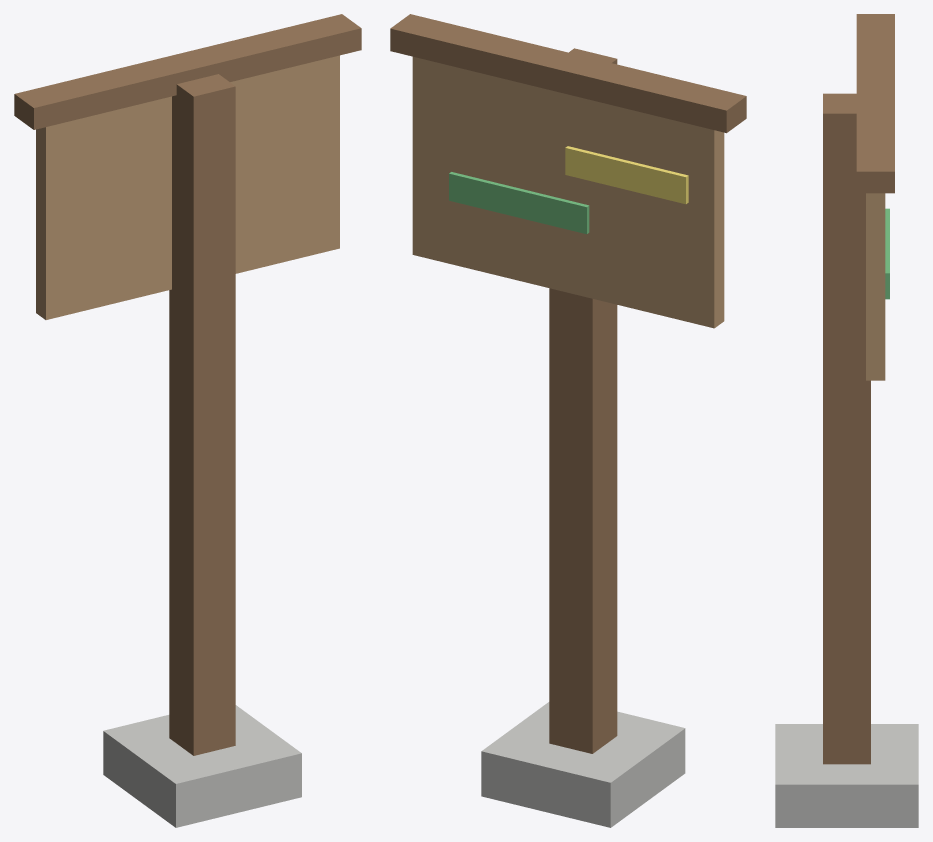
File: hiking_trail.glb
3 renders of one model, left to right at view 1: azimuth 30°, elevation 25°; view 2: azimuth 150°, elevation 25°; view 3: azimuth 270°, elevation 25°, orthographic. The views are drawn at different scales.
Parts seen in each view (by area): view 1: hiking_trail; view 2: hiking_trail; view 3: hiking_trail.
Part boxes in pixels (bbox=[...]): hiking_trail: bbox=[14, 14, 361, 827]; hiking_trail: bbox=[390, 14, 746, 827]; hiking_trail: bbox=[775, 14, 918, 827].
Bounding box in the file's own units: 0.78 × 1.62 × 0.3.
